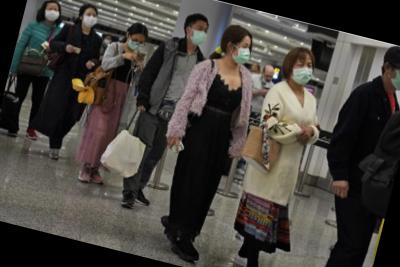mask_weared_incorrect: (262, 73, 275, 86)
with_mask: (289, 58, 317, 87), (230, 40, 253, 68), (187, 23, 210, 48), (387, 67, 400, 94), (126, 36, 146, 53), (81, 10, 99, 28), (42, 6, 61, 23), (104, 37, 113, 47)
